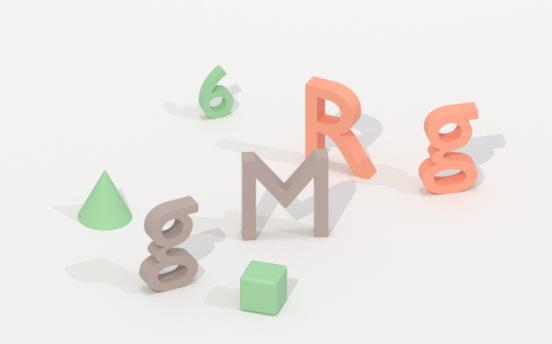6: (196, 60, 239, 120)
M-hoa: (238, 145, 332, 242)
R-hoa: (302, 71, 378, 184)
g: (417, 99, 484, 193), (141, 197, 204, 296)
hop: (237, 260, 289, 316)
non: (75, 170, 135, 235)
